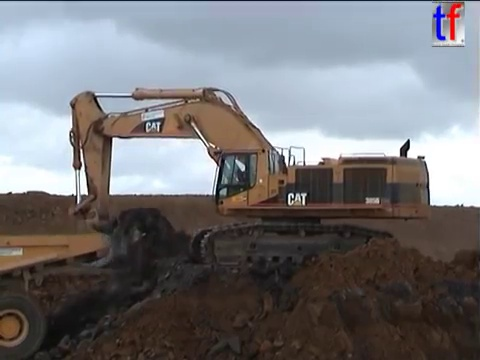excavator: (64, 84, 433, 279)
truck: (1, 226, 114, 360)
